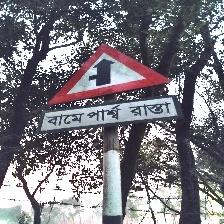Side-road-left: (40, 42, 182, 135)
